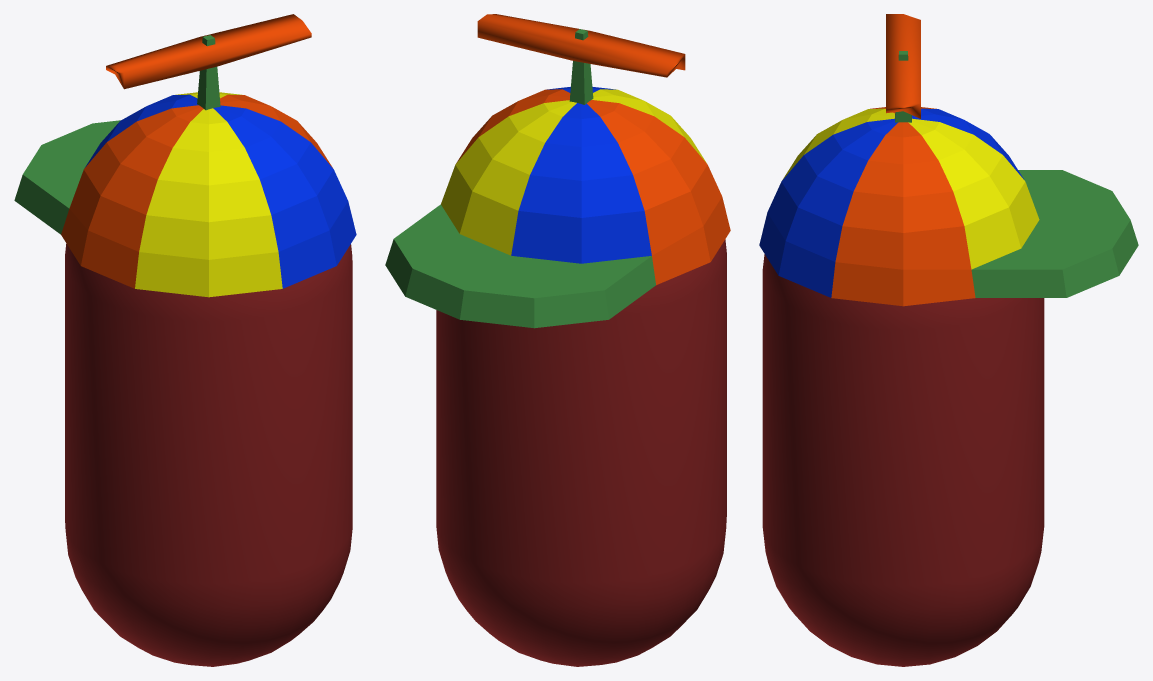
File: Propellering.fbx
3 renders of one model, left to right at view 1: azimuth 30°, elevation 25°; view 2: azimuth 150°, elevation 25°; view 3: azimuth 270°, elevation 25°, orthographic. The views are drawn at different scales.
Parts seen in each view (by area): view 1: pSphere10; view 2: pSphere10; view 3: pSphere10.
Part boxes in pixels (x1=…): pSphere10: x1=14, y1=14, x2=356, y2=666; pSphere10: x1=385, y1=14, x2=730, y2=666; pSphere10: x1=759, y1=14, x2=1138, y2=666.
Size of the model in its own units: 102 by 235 by 135.
